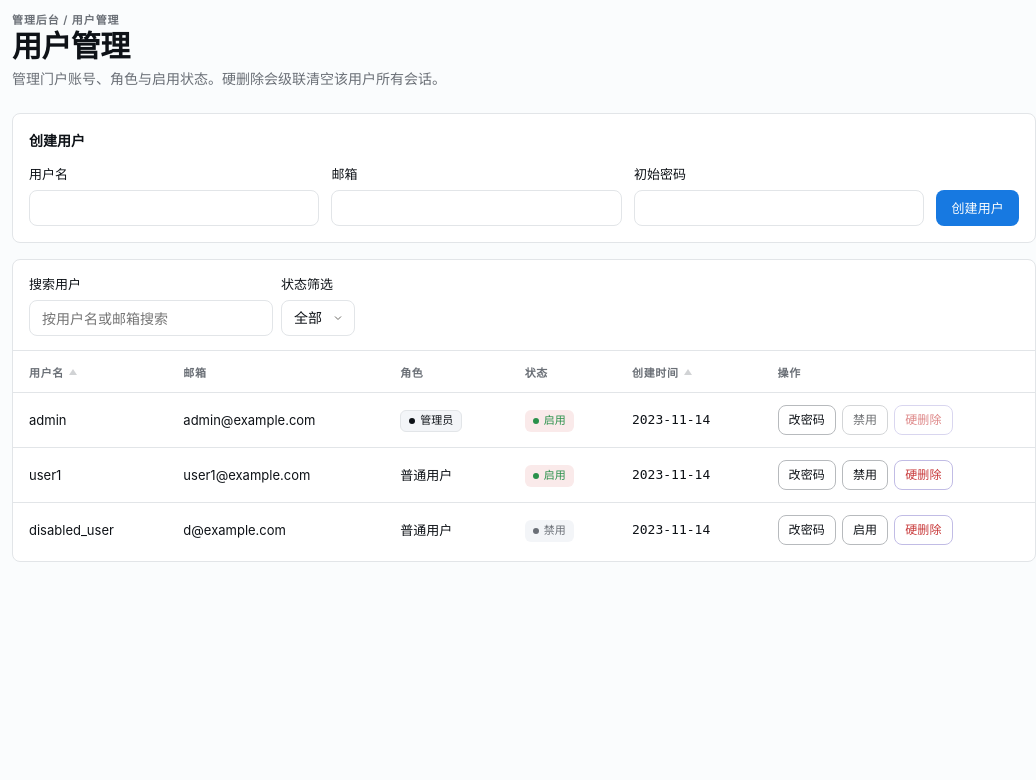
Test case: UsersAdminPage › 启用用户 — 点击"启用"调 PATCH enabled=true(写 user_enable 审计)
Click the button "启用" at (865, 530), box [842,515,888,545]
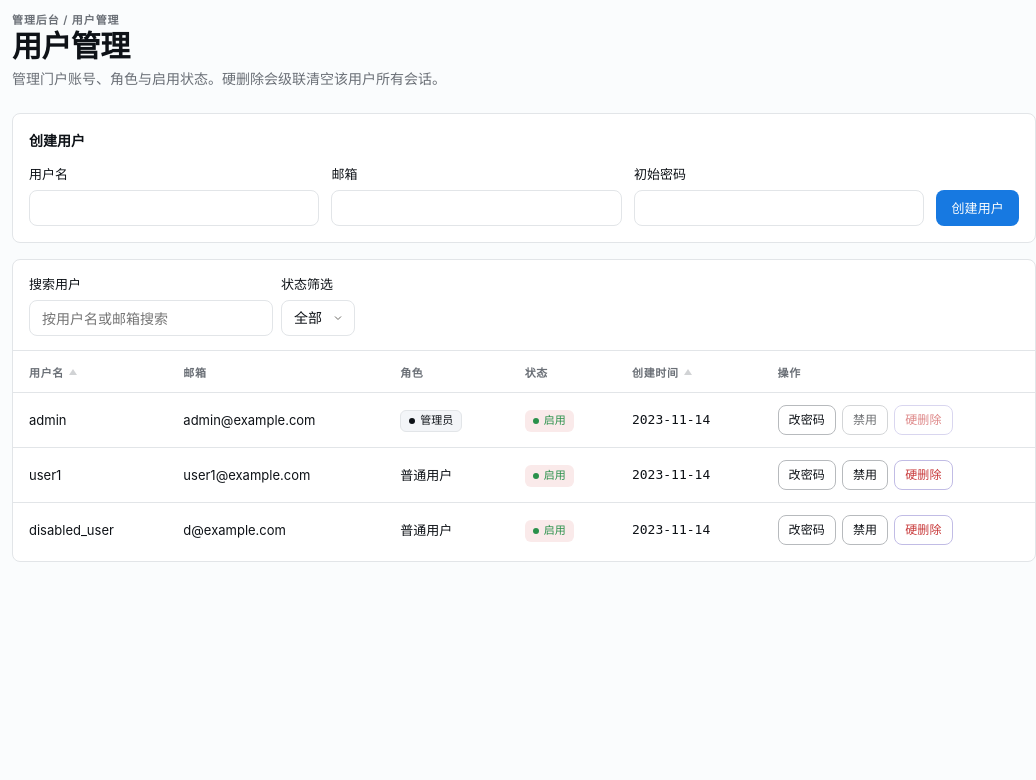
expect the button "禁用" in the row of "disabled_user" is shown: met, box [842,515,888,545]
